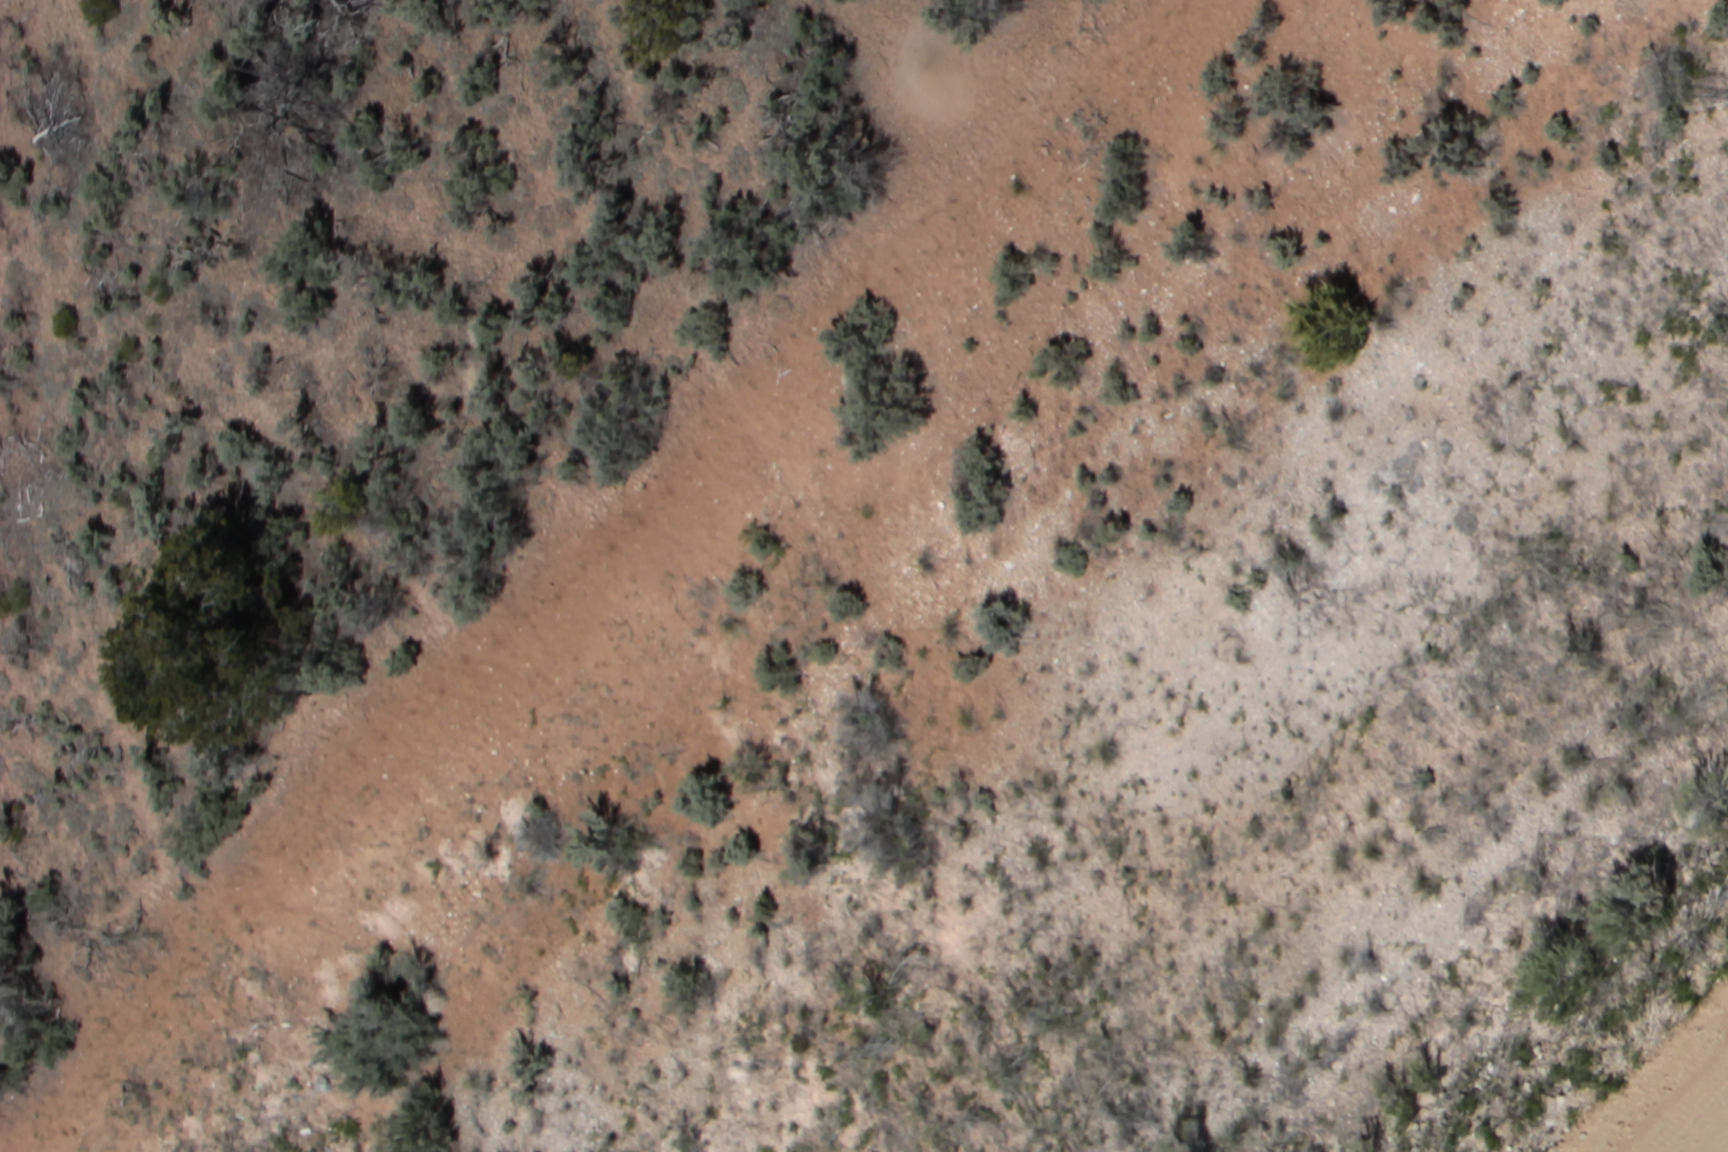burrow: (881, 13, 999, 138)
